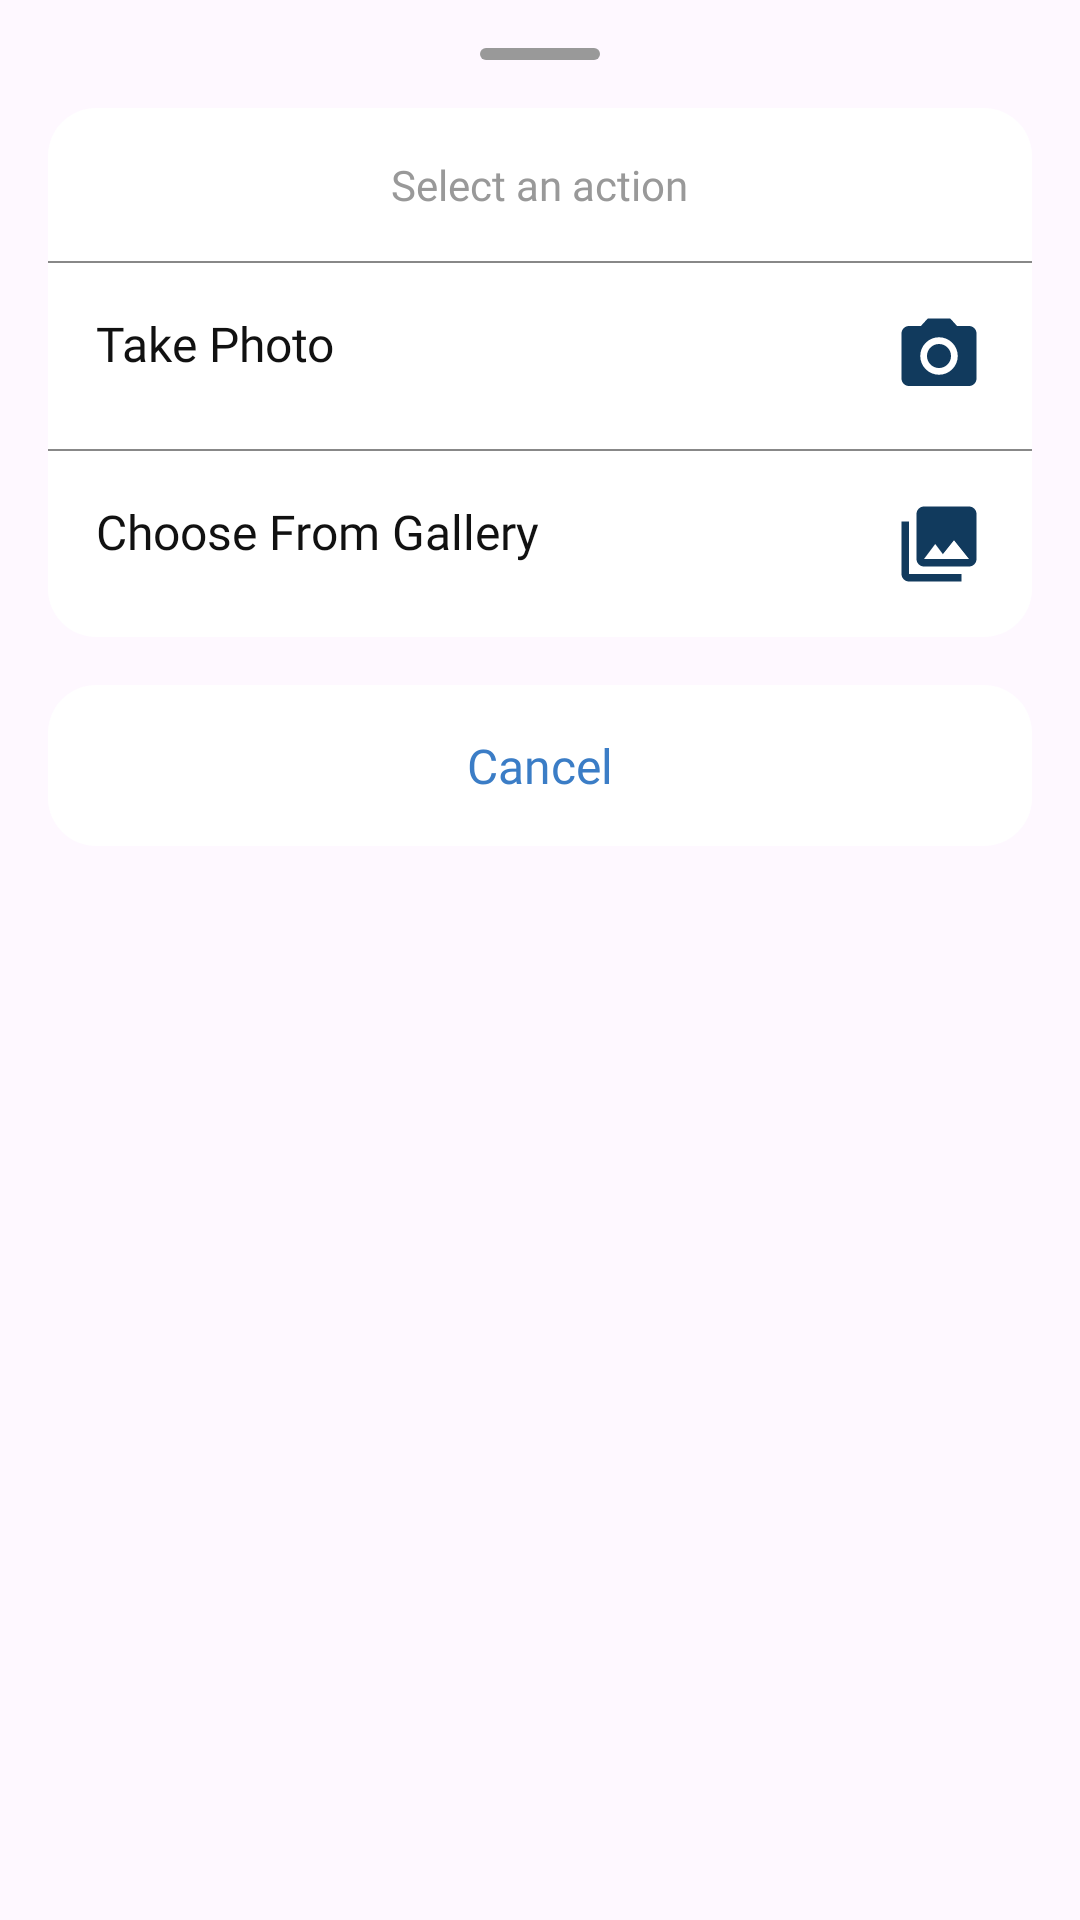

Where icons sit on this 1080px×1920px app screen, as box(x1, y1, x2, y2):
camera: box(901, 318, 977, 386)
collections: box(901, 506, 977, 582)
